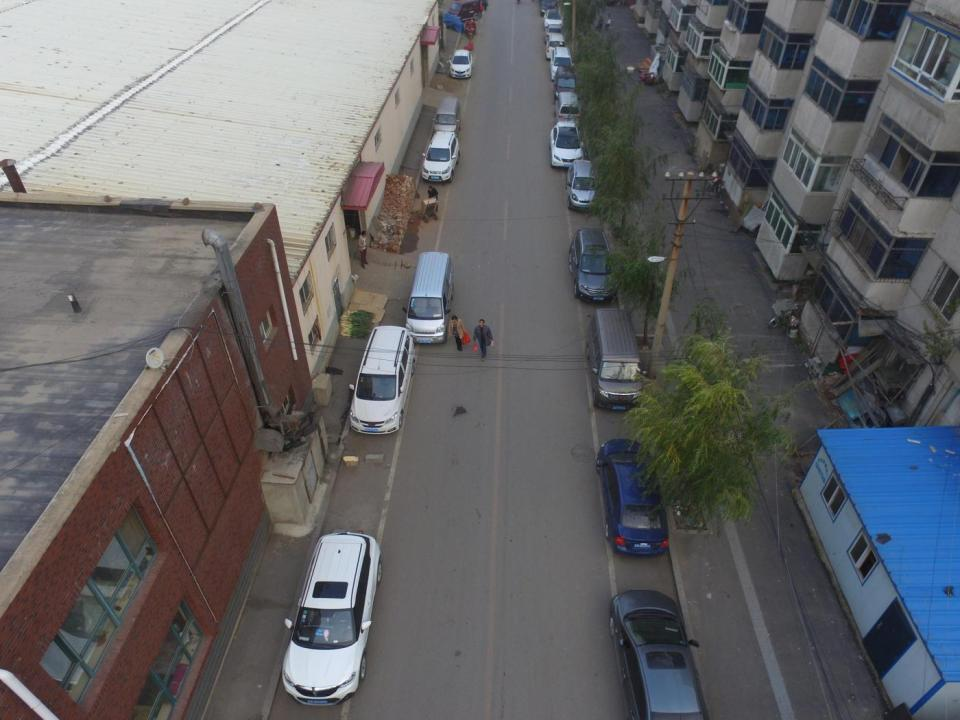car: (281, 530, 382, 706), (609, 588, 708, 720), (595, 438, 669, 557), (568, 228, 618, 302), (421, 130, 460, 183), (565, 159, 598, 210), (548, 121, 584, 167), (448, 49, 472, 79), (542, 9, 564, 28), (544, 24, 564, 41), (538, 0, 559, 14)
van: (348, 326, 416, 435), (585, 308, 649, 412), (402, 251, 454, 345), (432, 96, 461, 139), (553, 91, 581, 129), (553, 65, 578, 102), (550, 47, 573, 81), (447, 0, 480, 23), (545, 32, 567, 60)
